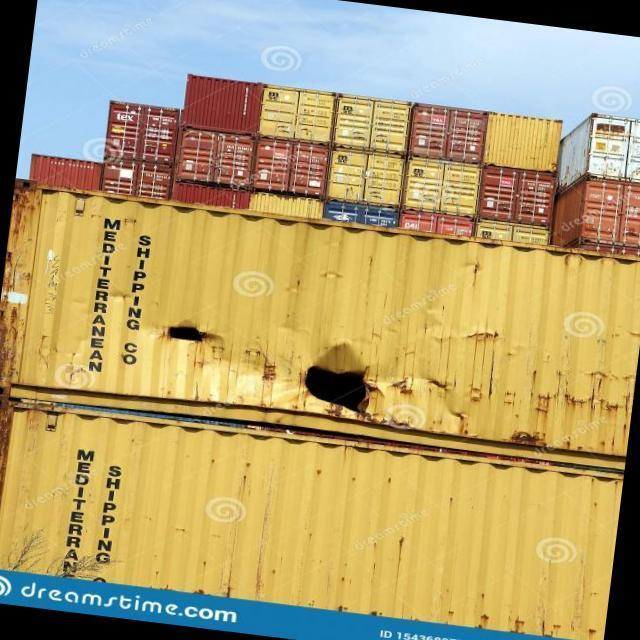hole: (304, 366, 376, 418), (165, 325, 210, 347)
